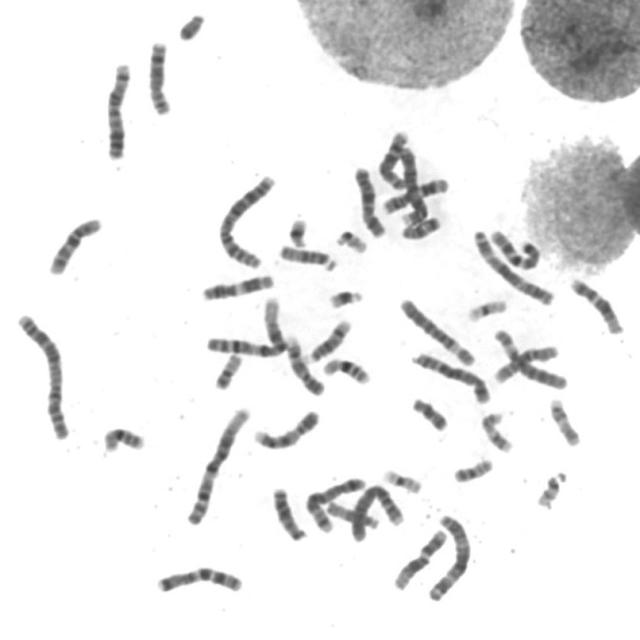A1: (180, 401, 252, 527), (200, 291, 288, 359)
A2: (12, 308, 72, 442), (212, 168, 278, 270)
A3: (468, 223, 556, 307), (422, 508, 473, 602)
B4: (345, 479, 406, 544), (393, 142, 430, 226)
B5: (407, 346, 493, 405), (298, 471, 368, 534)
C10: (42, 211, 104, 277), (489, 338, 561, 384)
C11: (378, 171, 452, 215), (196, 268, 276, 302)
C12: (388, 524, 449, 592), (564, 272, 625, 336)
C6: (395, 292, 478, 367), (489, 323, 570, 391)
C7: (151, 560, 245, 595), (483, 222, 542, 272)
C8: (142, 34, 173, 117), (373, 125, 412, 190)
C9: (248, 404, 322, 452), (281, 329, 327, 397)
D13: (98, 63, 136, 161), (267, 481, 309, 542)
D14: (302, 313, 353, 364)
D15: (273, 238, 339, 273), (321, 495, 382, 530)
E16: (318, 352, 373, 386), (97, 421, 147, 453)
E17: (544, 392, 583, 448), (476, 406, 515, 454)
E18: (406, 391, 449, 433), (396, 211, 443, 241)
F19: (377, 464, 424, 494), (462, 294, 510, 323)
F20: (209, 348, 244, 391), (448, 452, 495, 484)
G21: (323, 283, 365, 310), (282, 212, 310, 249)
G22: (532, 466, 570, 510), (331, 224, 369, 255)
X: (349, 160, 388, 239)
Y: (172, 7, 206, 42)
